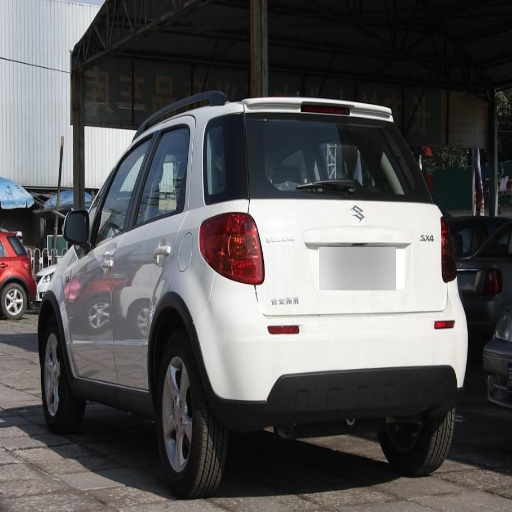back_bumper: (194, 271, 467, 432)
back_glass: (221, 114, 409, 199)
back_left_door: (112, 136, 177, 387)
tailgate: (374, 208, 434, 289)
trunk: (245, 200, 441, 331)
